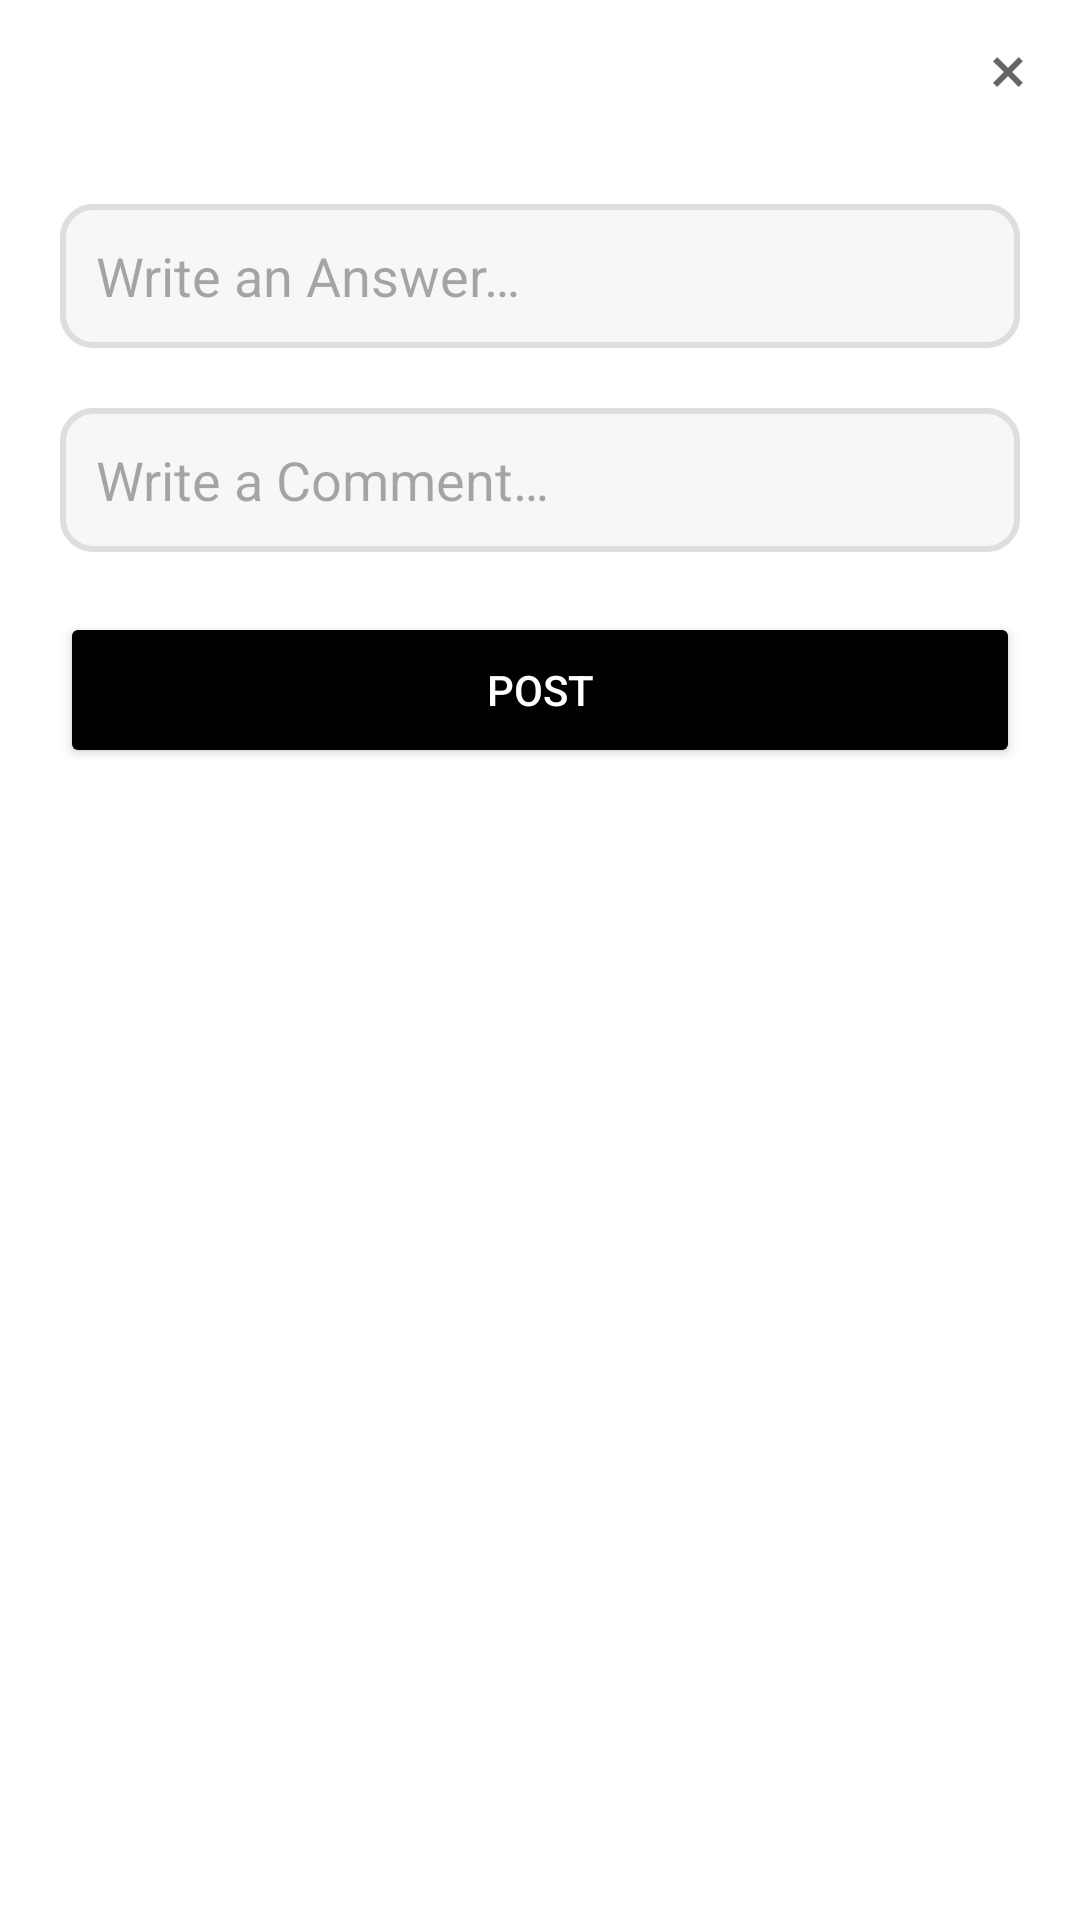

Named icons in this screenshot (1080w x 1920h) and their bounding boxes, (x1, y1, x2, y2):
close: (993, 57, 1023, 87)
